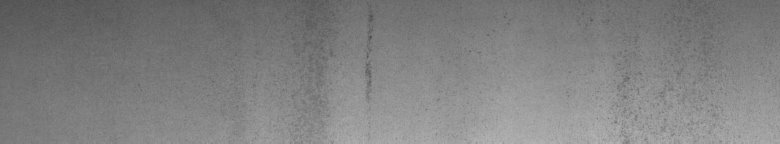ib: (607, 72, 716, 124)
